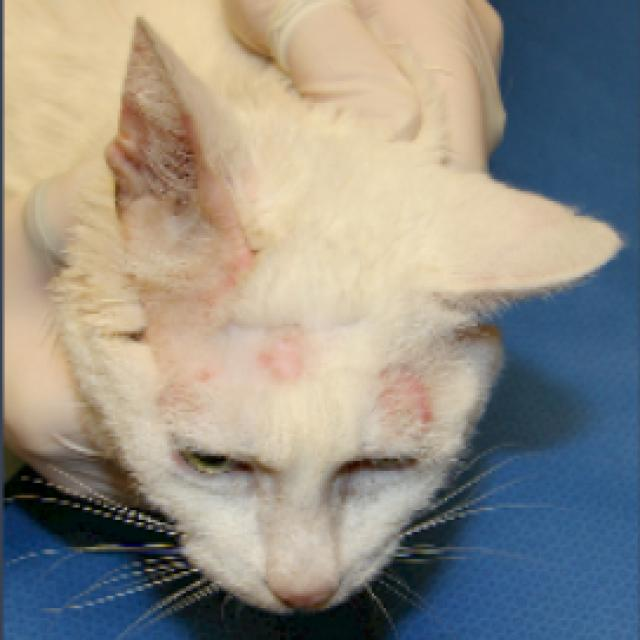hac lao: (327, 308, 476, 486), (225, 297, 332, 414)
